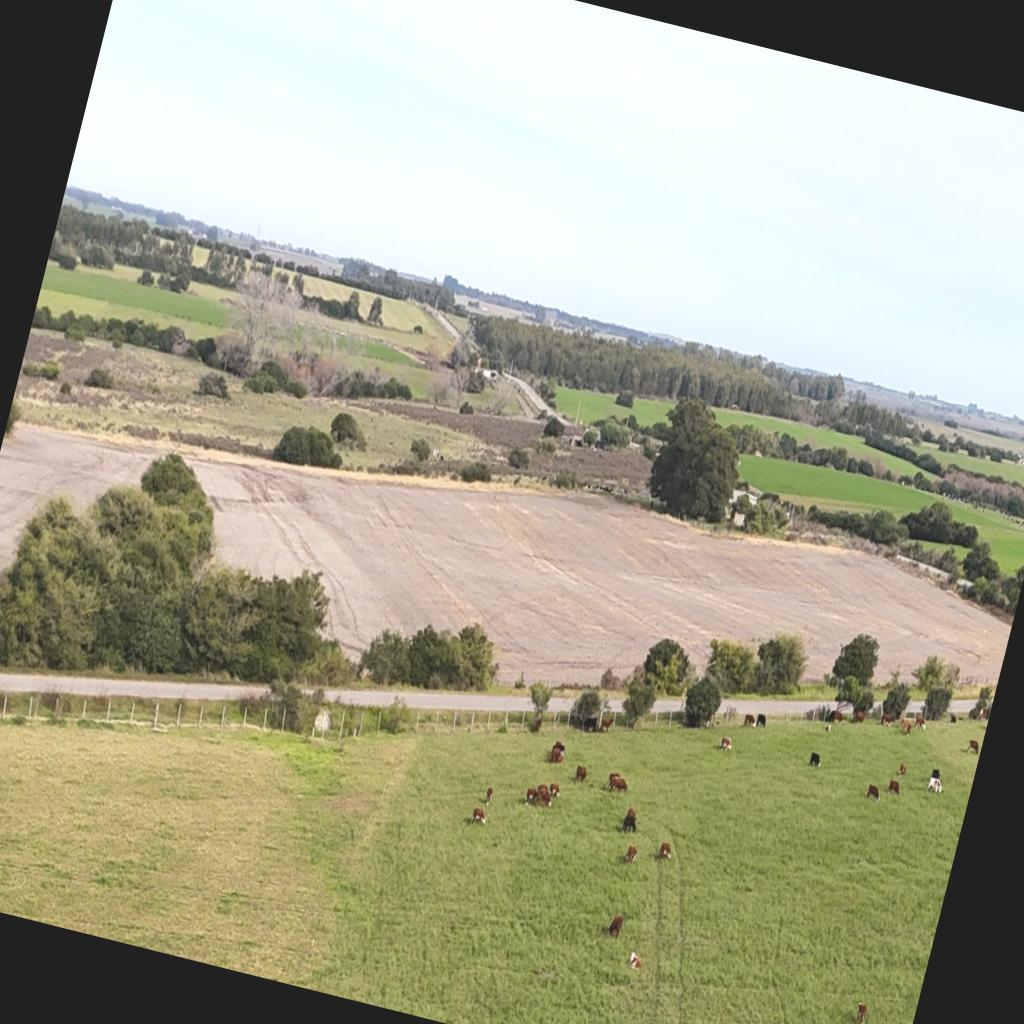cow: (606, 912, 625, 940), (534, 788, 554, 812), (620, 812, 640, 836), (656, 840, 674, 864), (925, 774, 944, 796), (626, 948, 644, 971), (610, 775, 630, 795), (469, 806, 488, 827), (597, 712, 615, 734), (580, 714, 599, 734), (852, 1002, 869, 1024), (622, 843, 638, 866), (522, 786, 538, 808), (864, 783, 882, 802), (572, 764, 588, 785), (602, 773, 617, 793), (966, 738, 982, 756), (896, 718, 912, 736), (807, 750, 823, 768), (741, 712, 757, 729), (912, 714, 928, 731), (887, 778, 902, 796), (716, 736, 732, 752), (852, 708, 866, 725), (754, 712, 768, 729), (482, 786, 494, 805), (548, 782, 562, 798), (550, 740, 566, 754), (830, 708, 844, 724), (624, 806, 638, 822), (703, 712, 715, 730), (878, 713, 892, 728), (552, 749, 564, 765), (532, 716, 542, 734), (929, 768, 941, 782), (897, 762, 908, 776), (822, 721, 832, 734), (982, 708, 990, 722), (948, 714, 958, 724)
